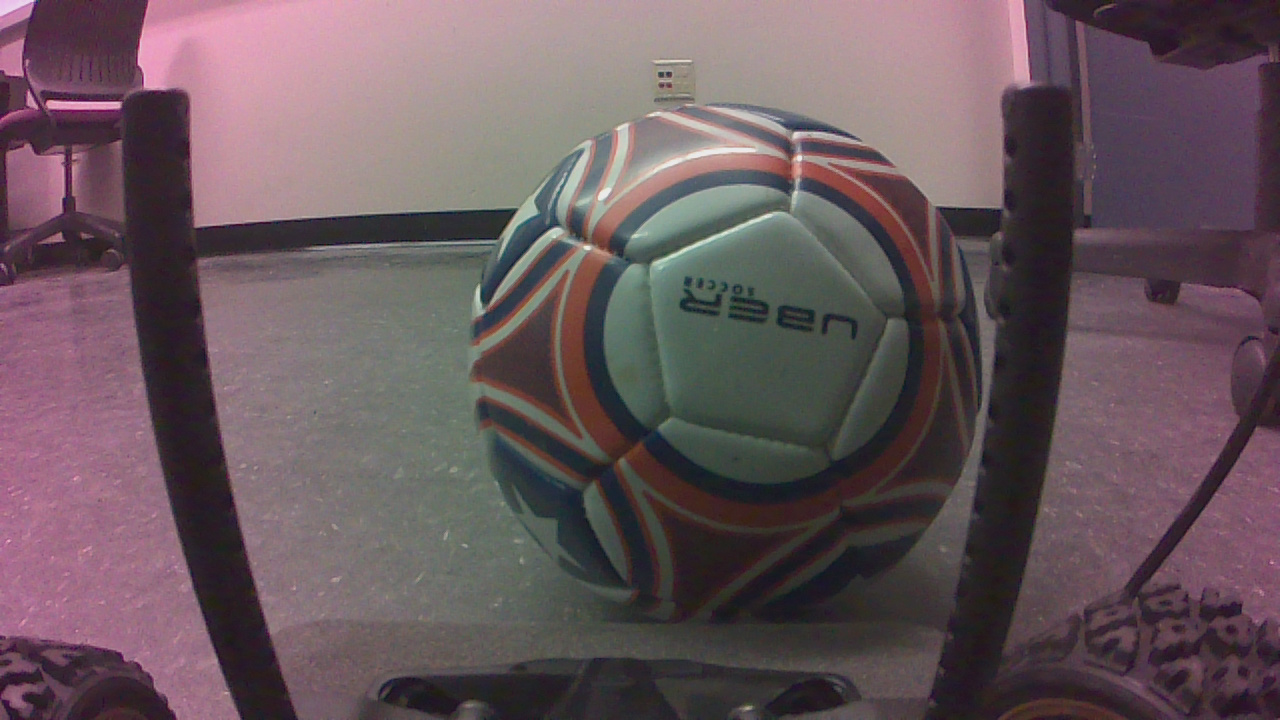ball: (477, 112, 990, 633)
